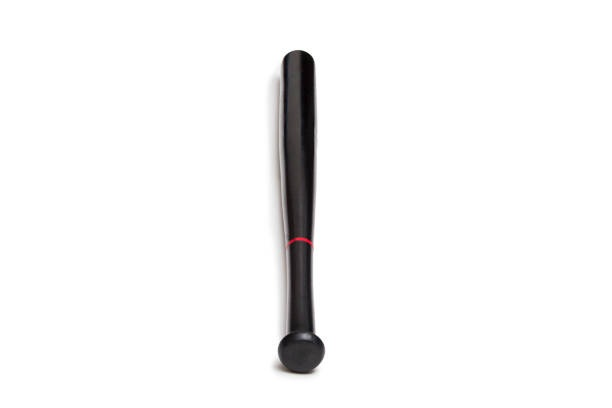bita: (277, 45, 320, 376)
